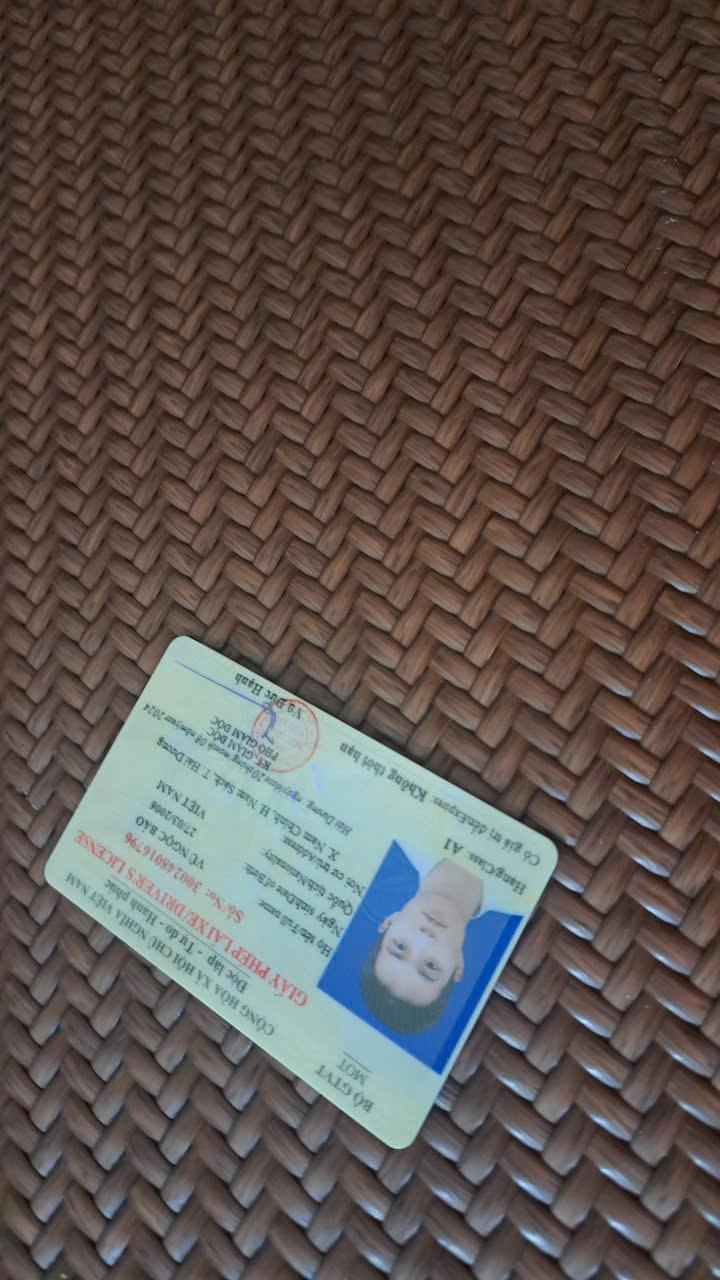gplx: (30, 627, 568, 1155)
